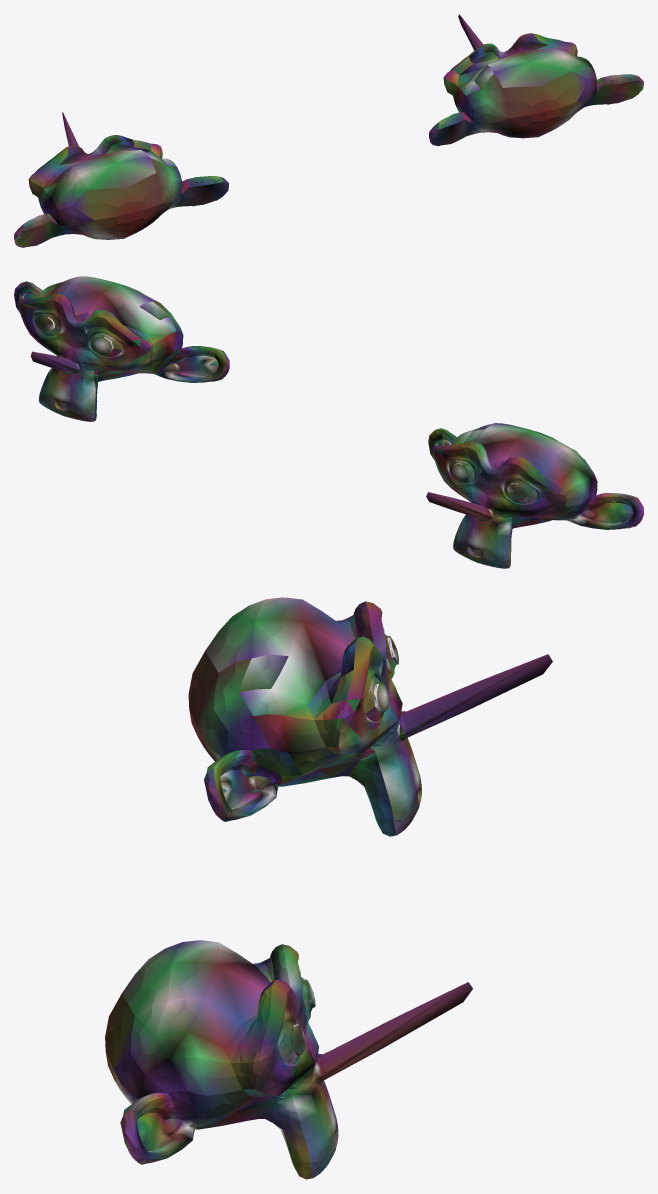
The model's file is monk.dae.
3 views of the same model, one above another, from view 1: azimuth 30°, elevation 25°; view 2: azimuth 150°, elevation 25°; view 3: azimuth 270°, elevation 25° (orthographic). The views are drawn at different scales.
Visible parts, largest first — view 1: Suzanne_001; view 2: Suzanne_001; view 3: Suzanne_001.
Part boxes in pixels (left/top/right/bottom): Suzanne_001: left=14, top=14, right=643, bottom=247; Suzanne_001: left=14, top=276, right=643, bottom=568; Suzanne_001: left=105, top=597, right=552, bottom=1179.
Size of what is drawn, in the model's own units: 9.56 by 3.1 by 1.8.
